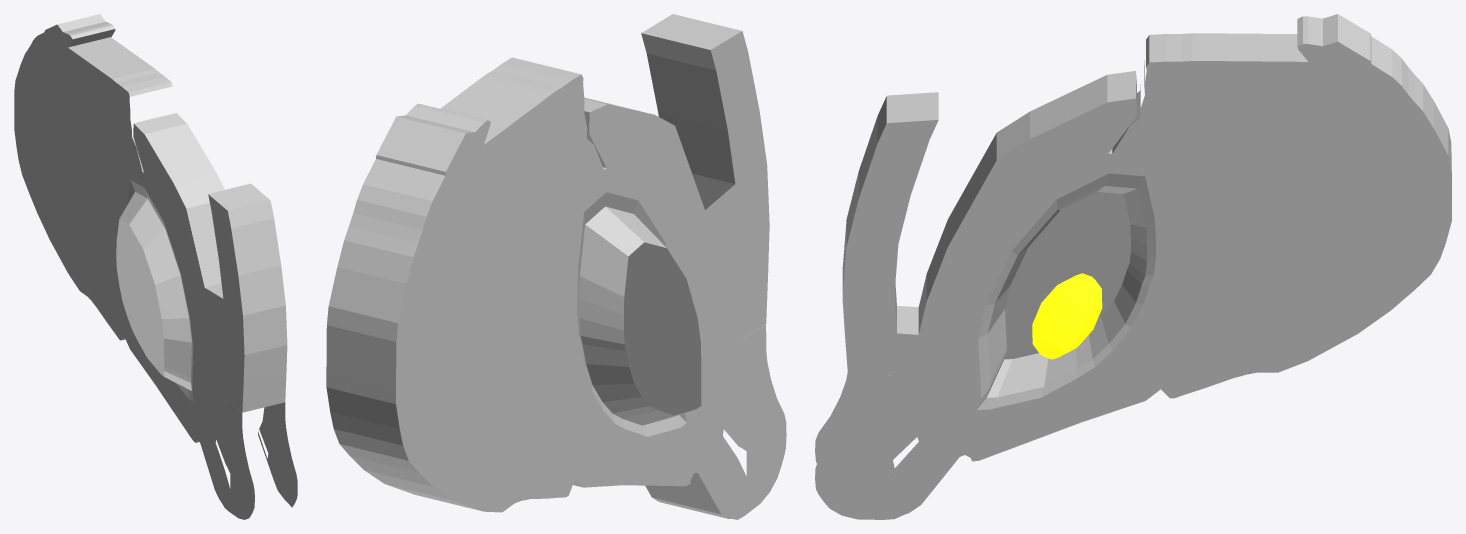
The model's file is blublu.glb.
3 views of the same model, side by side, from view 1: azimuth 30°, elevation 25°; view 2: azimuth 150°, elevation 25°; view 3: azimuth 270°, elevation 25° (orthographic). The views are drawn at different scales.
Parts seen in each view (by area): view 1: Cubo; view 2: Cubo; view 3: Cubo, OjoLuzNaranja.
Boxes of the visible parts, x1,y1,x2,y2 form: Cubo: (14, 14, 297, 519); Cubo: (326, 14, 786, 519); Cubo: (815, 14, 1451, 519); OjoLuzNaranja: (1032, 273, 1102, 359).
Bounding box in the file's own units: 0.228 × 1.27 × 1.53.
